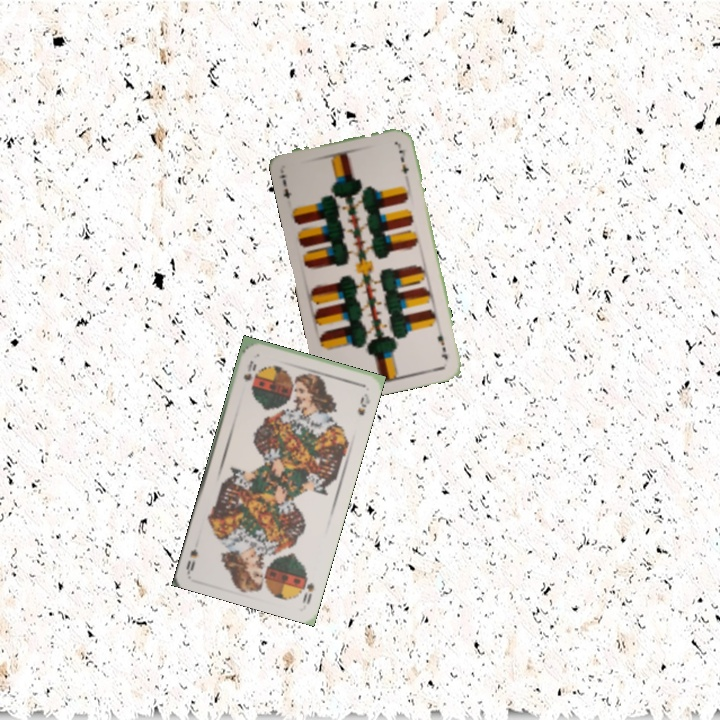E7: (433, 325, 450, 362), (276, 171, 294, 201)
SO: (298, 578, 317, 607), (239, 357, 259, 384)
